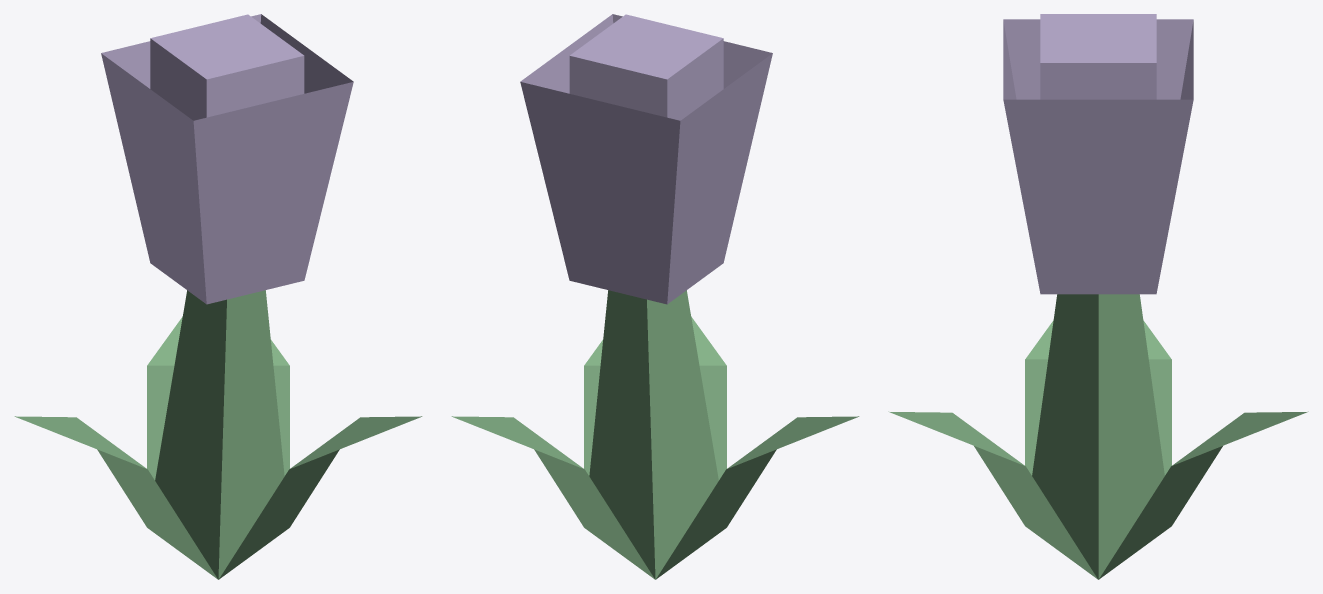
The model's file is flower_purple.glb.
3 views of the same model, side by side, from view 1: azimuth 30°, elevation 25°; view 2: azimuth 150°, elevation 25°; view 3: azimuth 270°, elevation 25° (orthographic). The views are drawn at different scales.
Parts seen in each view (by area): view 1: flower_purple; view 2: flower_purple; view 3: flower_purple.
Part boxes in pixels (<box>): flower_purple: <box>14,14,422,579</box>; flower_purple: <box>451,14,859,579</box>; flower_purple: <box>888,14,1308,579</box>.
Size of the model in its own units: 5.25 by 8 by 5.97.
